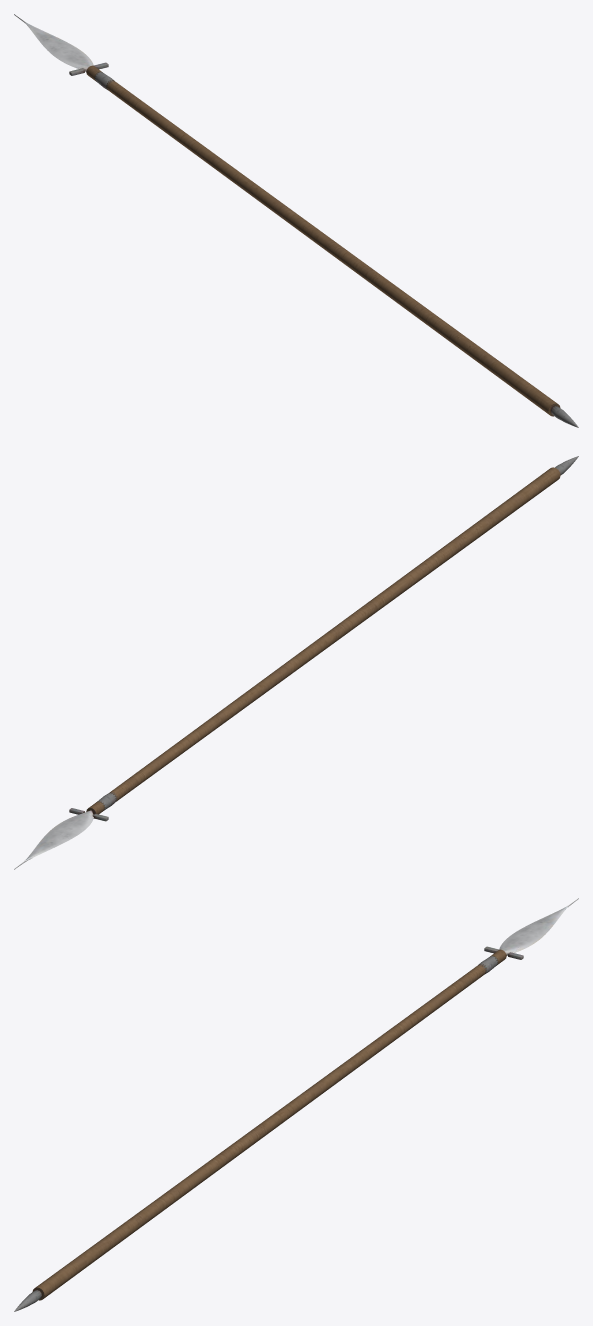
File: winged_spear.glb
3 renders of one model, top to bottom at view 1: azimuth 30°, elevation 25°; view 2: azimuth 150°, elevation 25°; view 3: azimuth 330°, elevation 25°, orthographic.
Parts seen in each view (by area): view 1: winged_spear; view 2: winged_spear; view 3: winged_spear.
Part boxes in pixels (left/top/right/bottom): winged_spear: left=14, top=14, right=578, bottom=427; winged_spear: left=14, top=456, right=578, bottom=869; winged_spear: left=14, top=898, right=578, bottom=1311.
Bounding box in the file's own units: 0.095 × 0.0302 × 2.49.
Materials: 1 (1 with a texture image).
